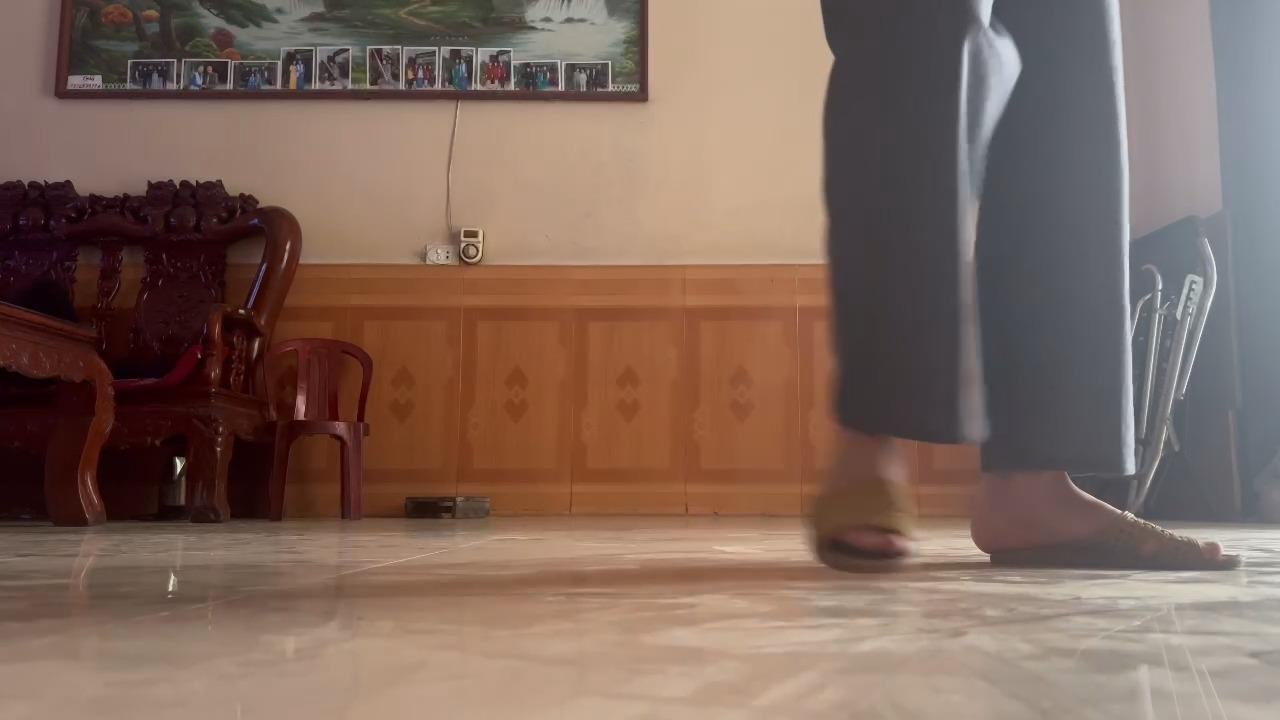no-boot: (966, 473, 1242, 580), (803, 443, 922, 582)
